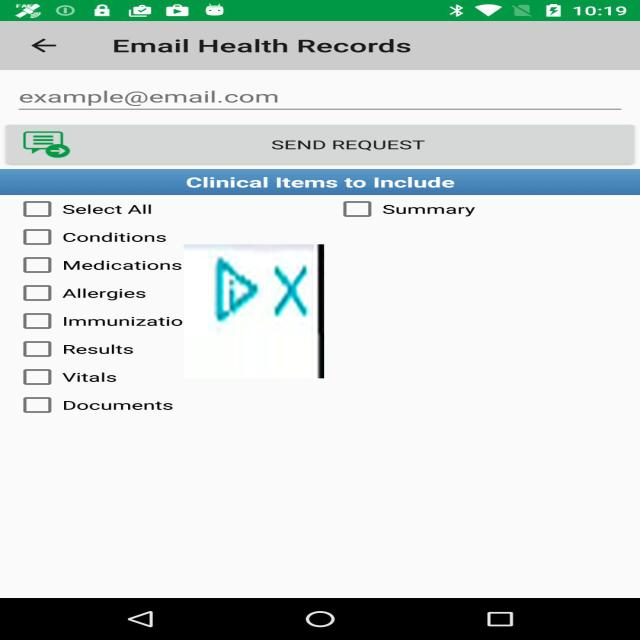sneaking: (184, 244, 324, 378)
